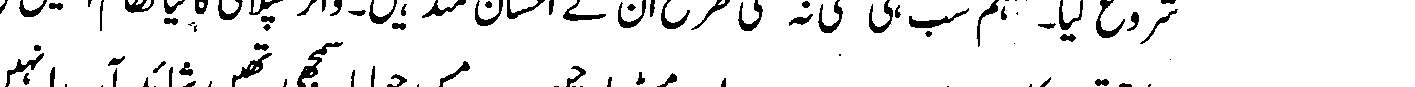bay_shosha: (903, 13, 949, 38)
